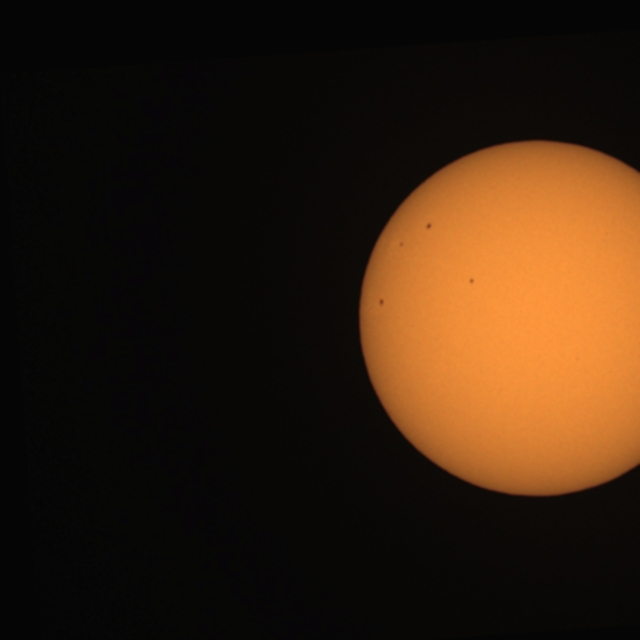sunspot: (468, 276, 476, 286), (378, 297, 385, 308), (425, 222, 433, 231), (398, 240, 404, 248)
